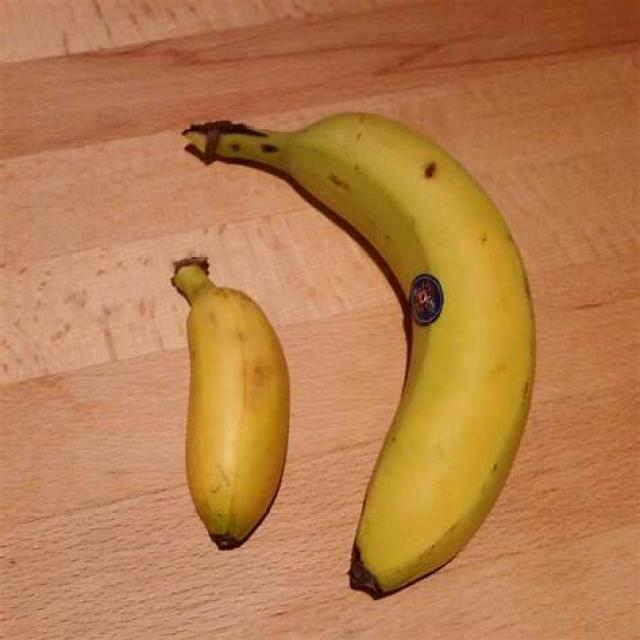Banana: (299, 103, 539, 604), (157, 246, 294, 548)
